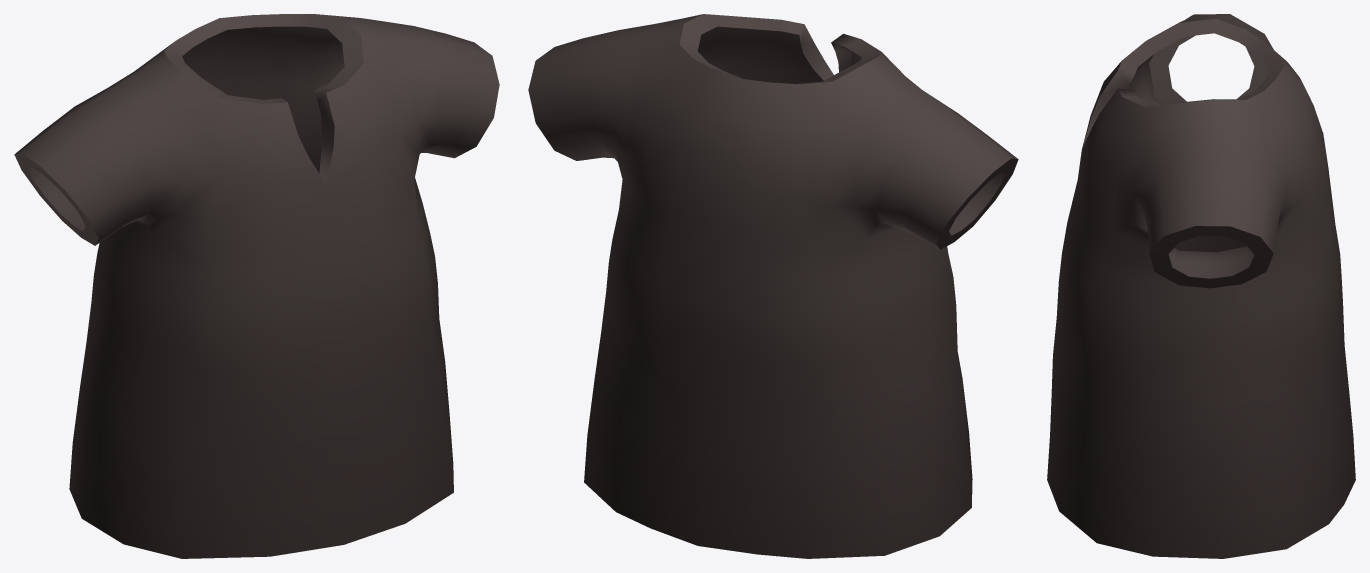
Rendered from Outfit_02.glb.
3 views of the same model, side by side, from view 1: azimuth 30°, elevation 25°; view 2: azimuth 150°, elevation 25°; view 3: azimuth 270°, elevation 25° (orthographic). The views are drawn at different scales.
Parts seen in each view (by area): view 1: Outfit_02; view 2: Outfit_02; view 3: Outfit_02.
Boxes of the visible parts, box(x1,y1,x2,y2) form: Outfit_02: box(14, 14, 499, 558); Outfit_02: box(528, 14, 1018, 558); Outfit_02: box(1047, 14, 1355, 558).
Bounding box in the file's own units: 0.3935 × 0.37 × 0.2439.
1 material, 1 textured.
